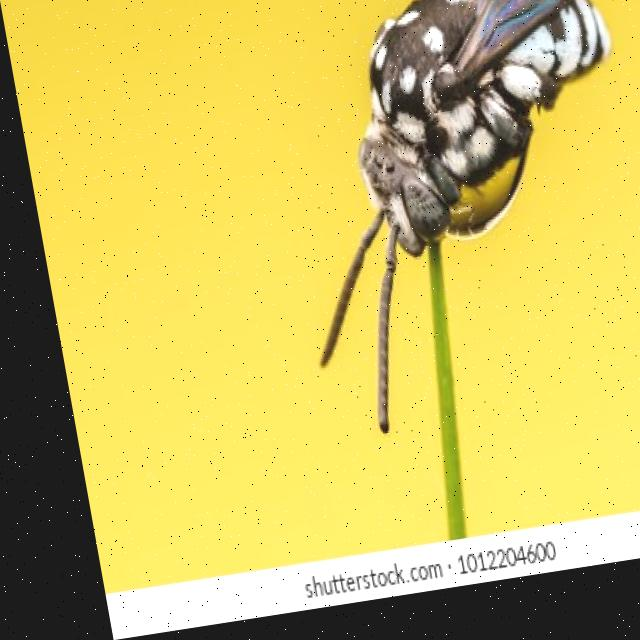Thyreus: (244, 0, 640, 464)
